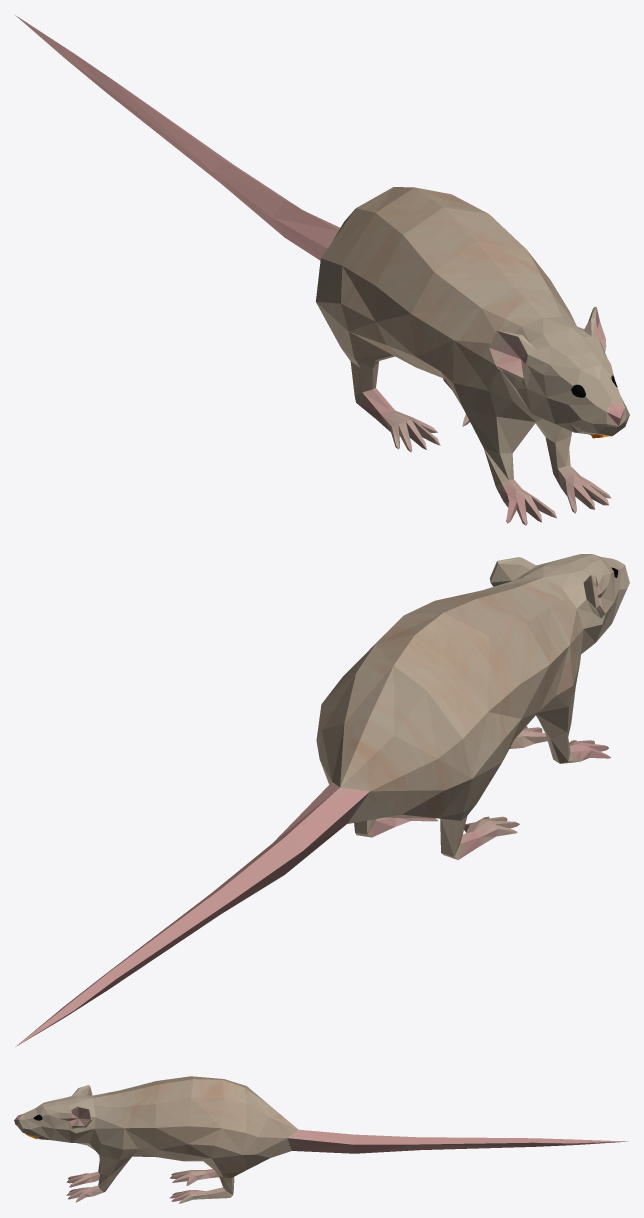
The model's file is rat.glb.
3 renders of one model, top to bottom at view 1: azimuth 30°, elevation 25°; view 2: azimuth 150°, elevation 25°; view 3: azimuth 270°, elevation 25°, orthographic. The views are drawn at different scales.
Visible parts, largest first — view 1: rat; view 2: rat; view 3: rat.
Boxes of the visible parts, box(x1,y1,x2,y2) form: rat: box(15, 15, 629, 525); rat: box(15, 554, 629, 1046); rat: box(14, 1076, 628, 1203).
Size of the model in its own units: 0.0493 by 0.0627 by 0.3161.
Materials: 1 (1 with a texture image).
